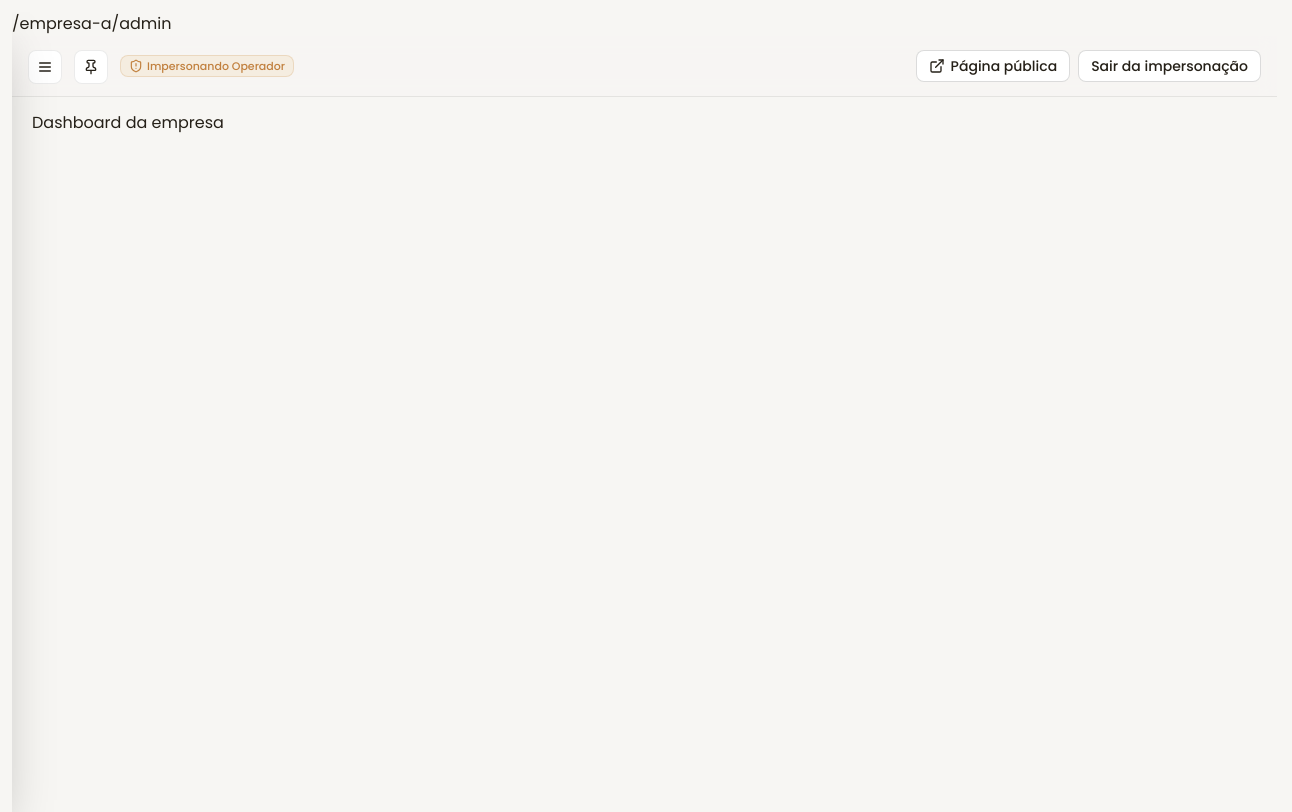
Test case: leaving impersonation with the real layout, delegation hook, and guards › takes Support impersonating operator directly to Empresas without rendering Access Denied
Expected: the heading "Dashboard da empresa" is shown, x1=32 y1=111 x2=224 y2=134
Click the button "Sair da impersonação". click: (1170, 66)
box: x1=1078 y1=50 x2=1261 y2=82
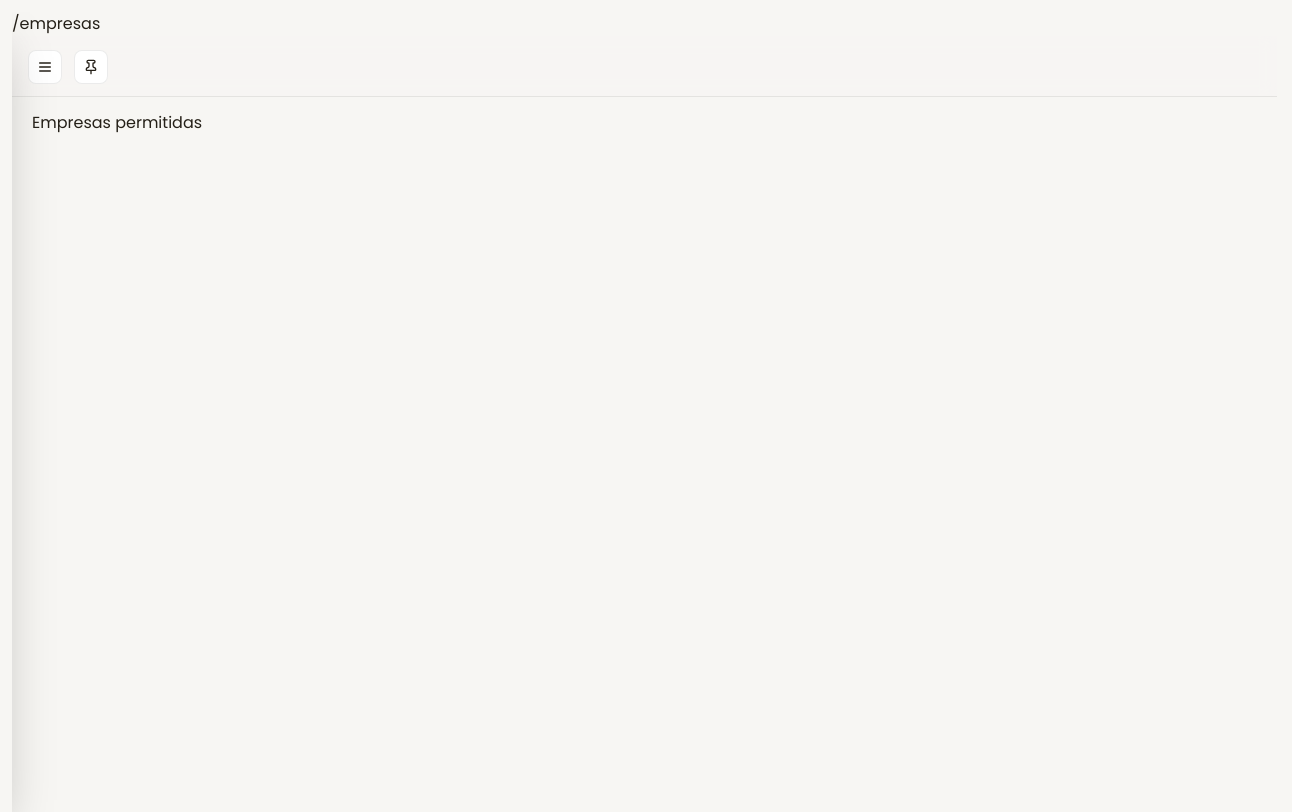
Now the heading "Empresas permitidas" is shown, box x1=32 y1=111 x2=202 y2=134
Now the text with test id "path" reads "/empresas", box x1=12 y1=12 x2=100 y2=35
